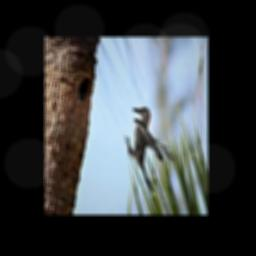Woodpecker: (124, 108, 176, 192)
